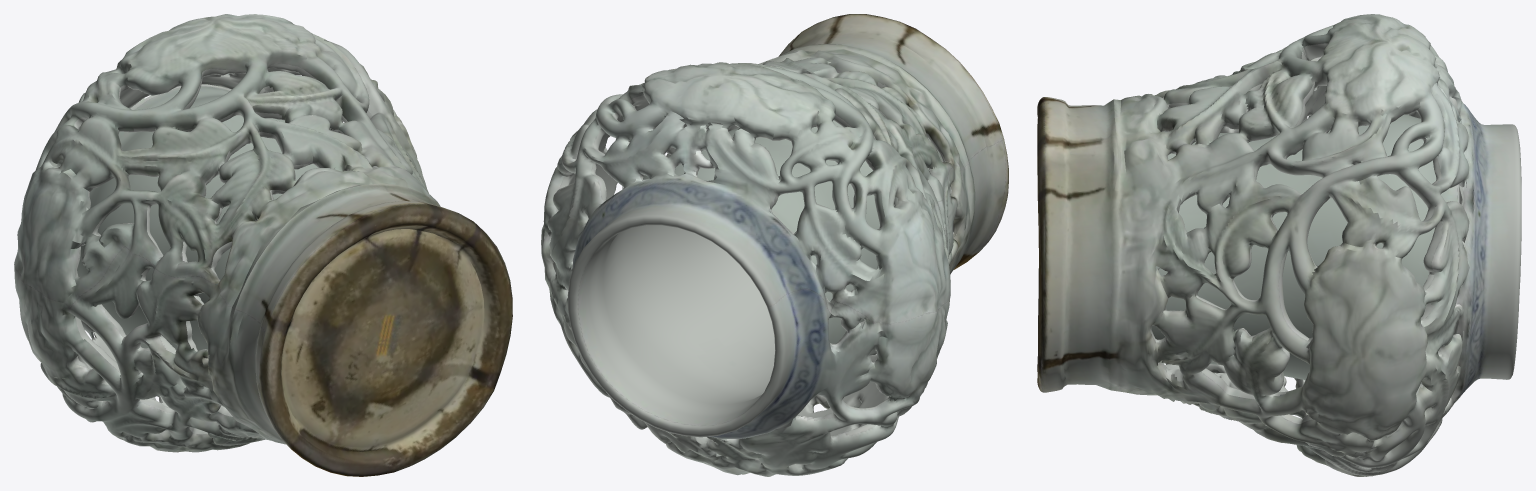
Rendered from nmk-4385.glb.
3 views of the same model, side by side, from view 1: azimuth 30°, elevation 25°; view 2: azimuth 150°, elevation 25°; view 3: azimuth 270°, elevation 25° (orthographic). The views are drawn at different scales.
Visible parts, largest first — view 1: kno000071-000-30000; view 2: kno000071-000-30000; view 3: kno000071-000-30000.
Boxes of the visible parts, bbox=[...] form: kno000071-000-30000: bbox=[14, 14, 512, 476]; kno000071-000-30000: bbox=[541, 14, 1008, 476]; kno000071-000-30000: bbox=[1037, 14, 1521, 476].
Bounding box in the file's own units: 1.13 × 1.14 × 1.19.
1 material, 1 textured.
